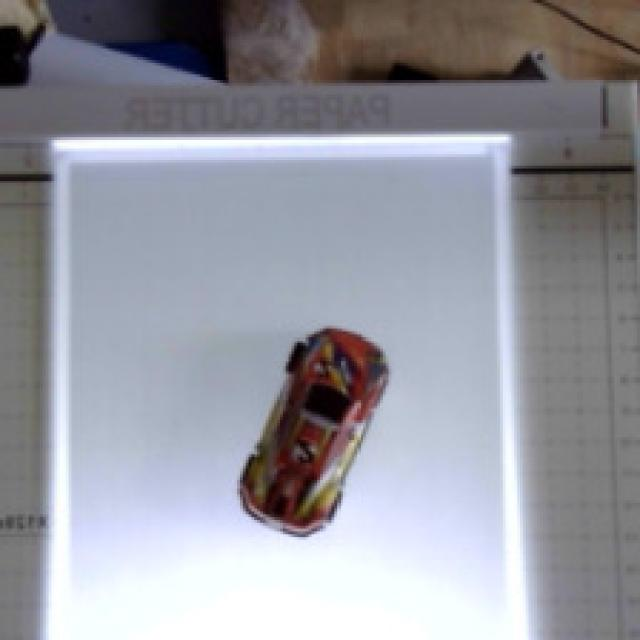Red Car: (170, 295, 435, 590)
